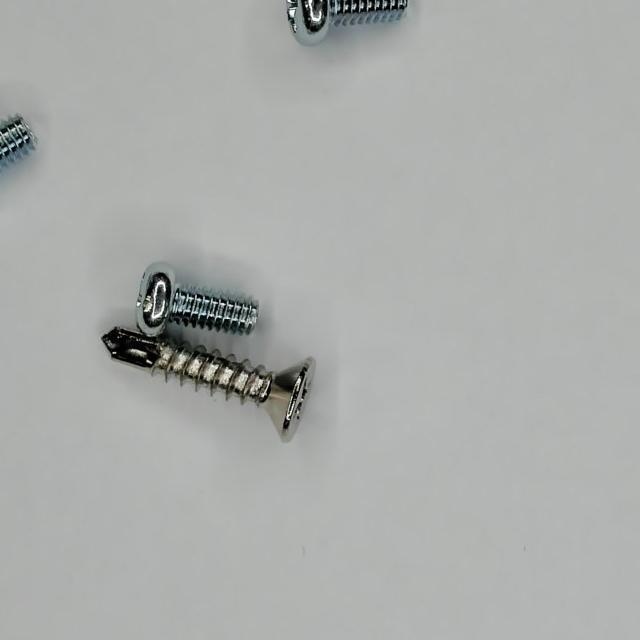Screw: (102, 328, 315, 442), (136, 263, 258, 337), (288, 0, 408, 44)
